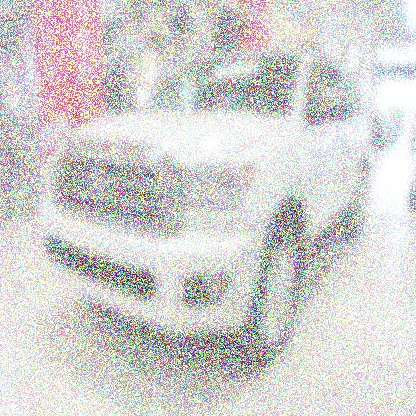Vehicle: (37, 43, 374, 372)
